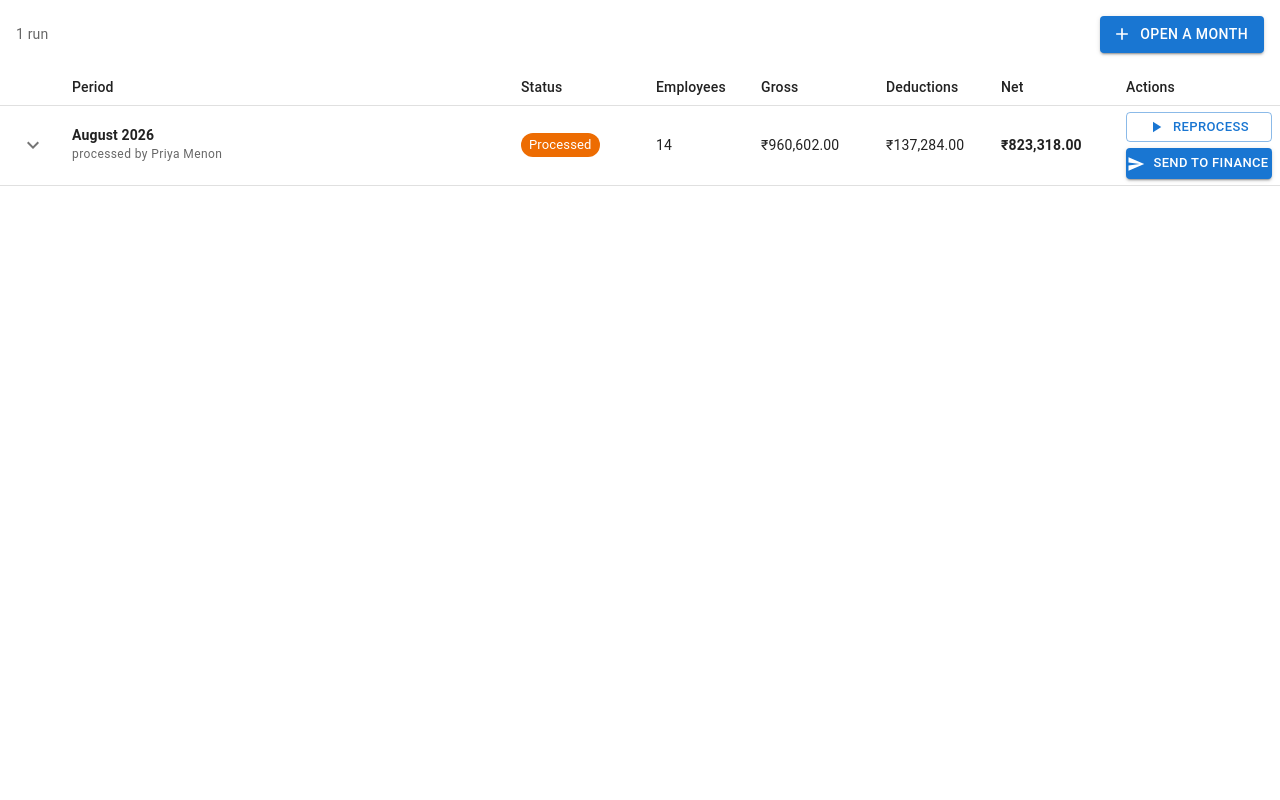
Test case: PayrollRunsTab › warns about unapproved timesheets and still lets HR send
Click the button "Send to Finance".
click(1199, 164)  # box [1126, 148, 1272, 179]
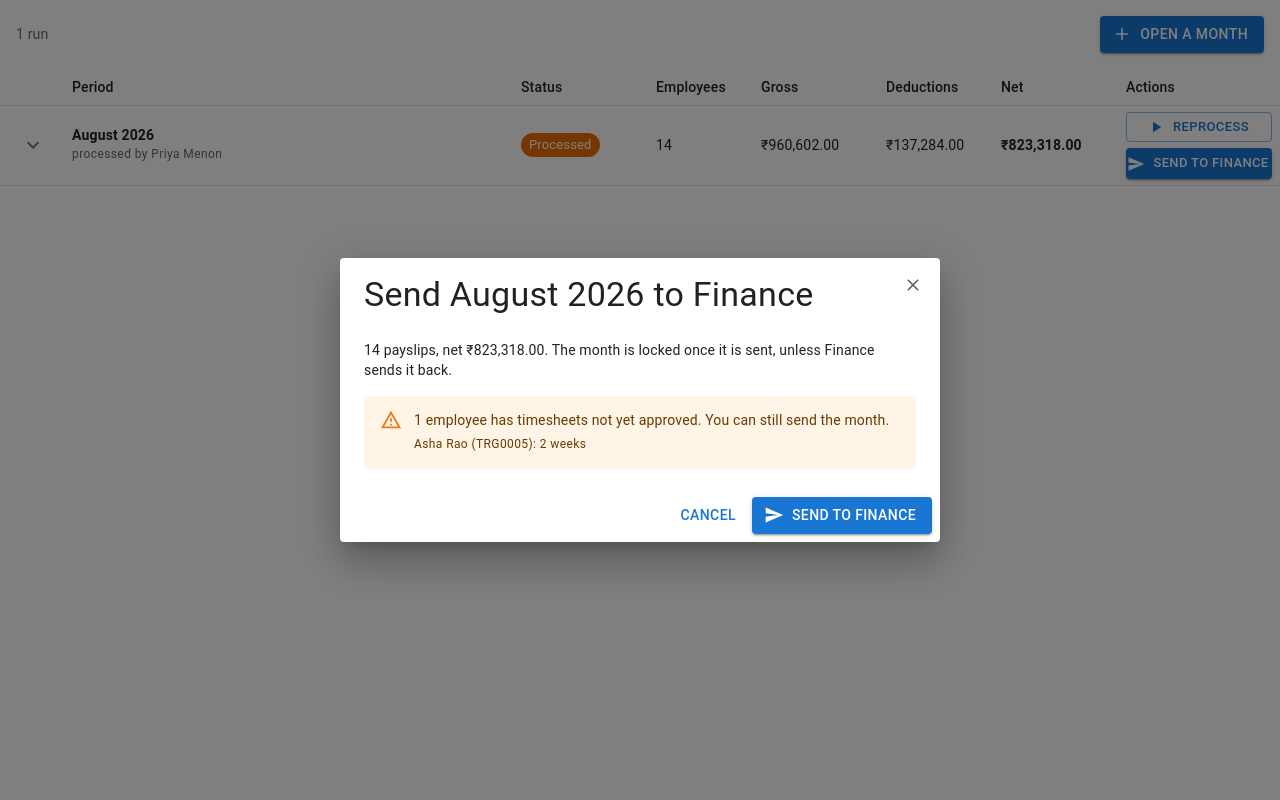
Now the text "Asha Rao (TRG0005): 2 weeks" is shown, box [414, 437, 586, 451]
Now the text "You can still send the month" is shown, box [517, 412, 889, 428]
Now the button "Send to Finance" is enabled, box [752, 497, 932, 534]
